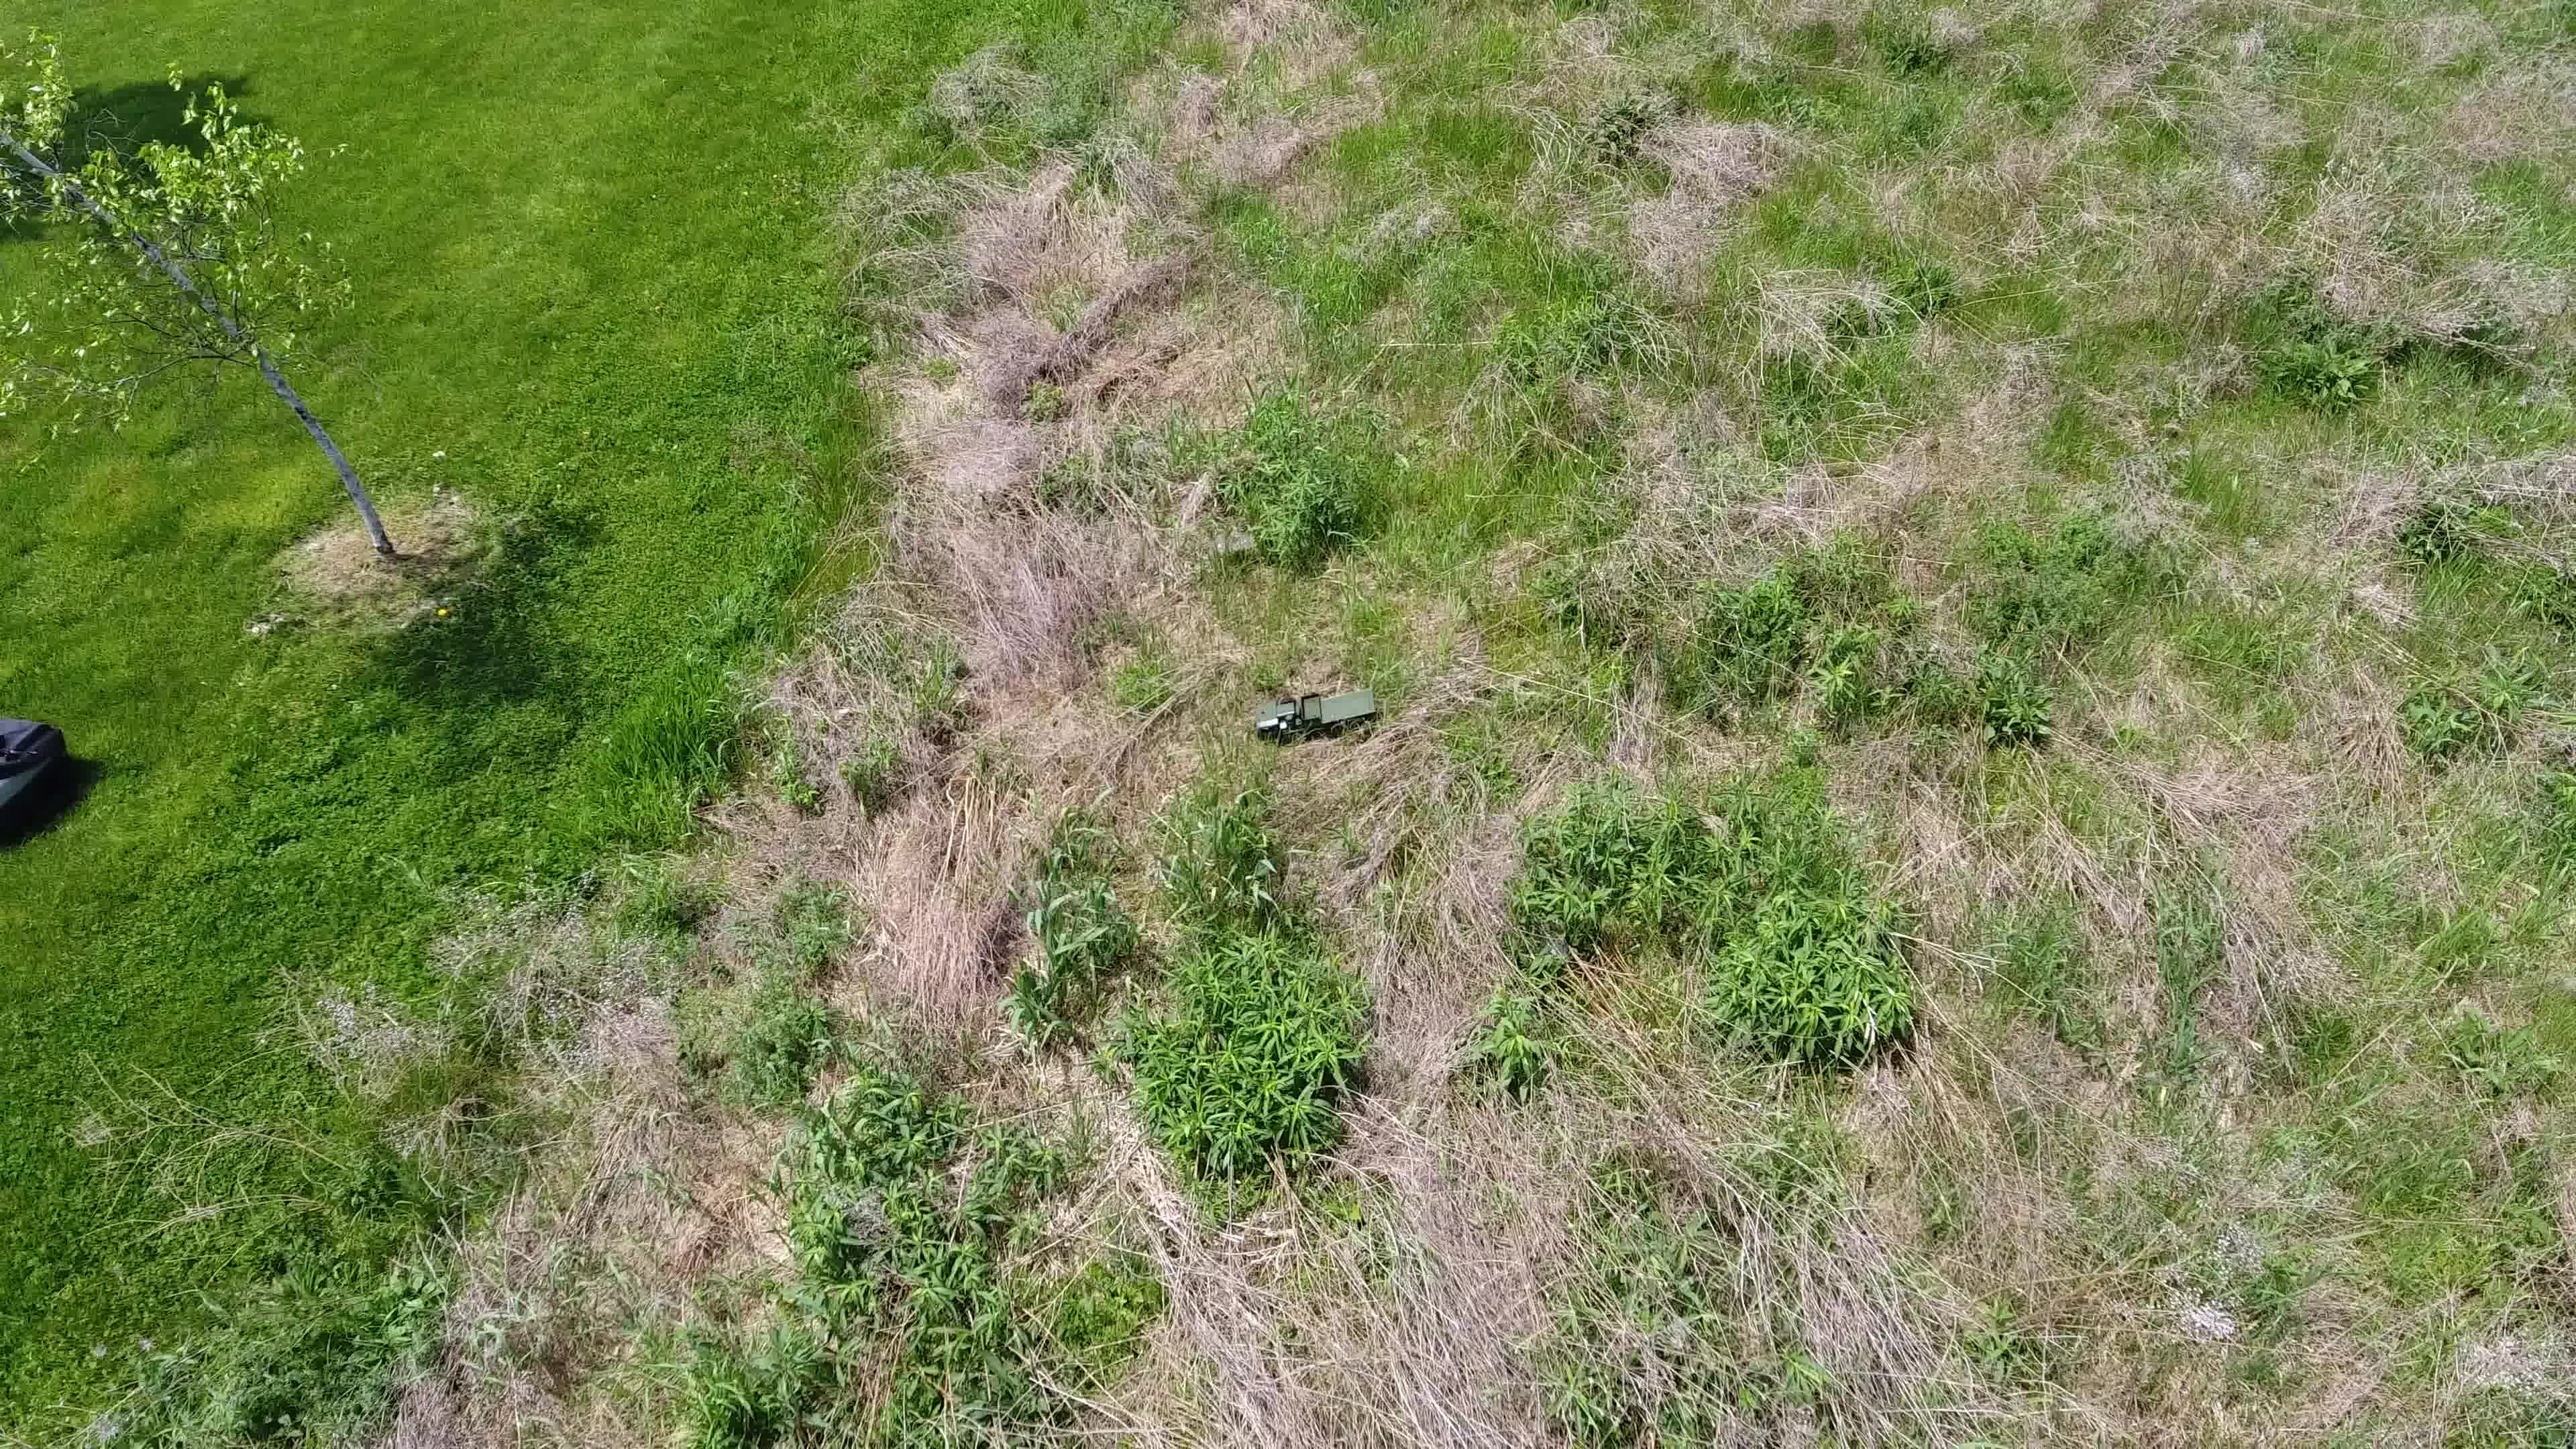transporter9: (1249, 681, 1380, 743)
